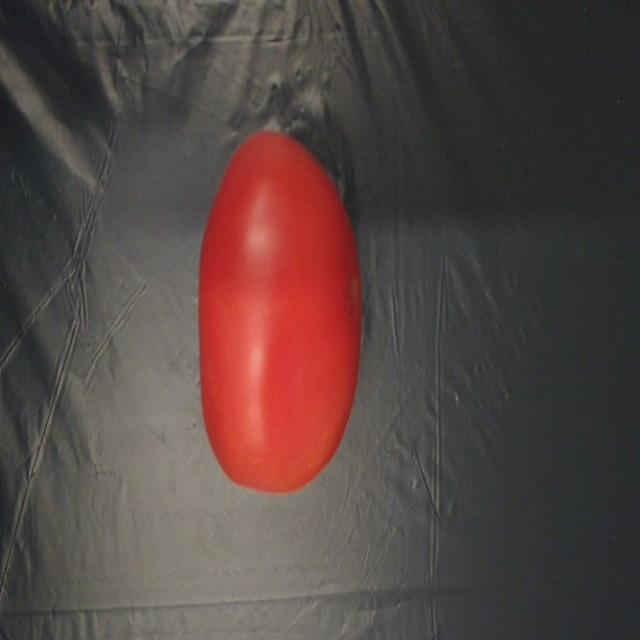kirmizi: (164, 110, 410, 514)
